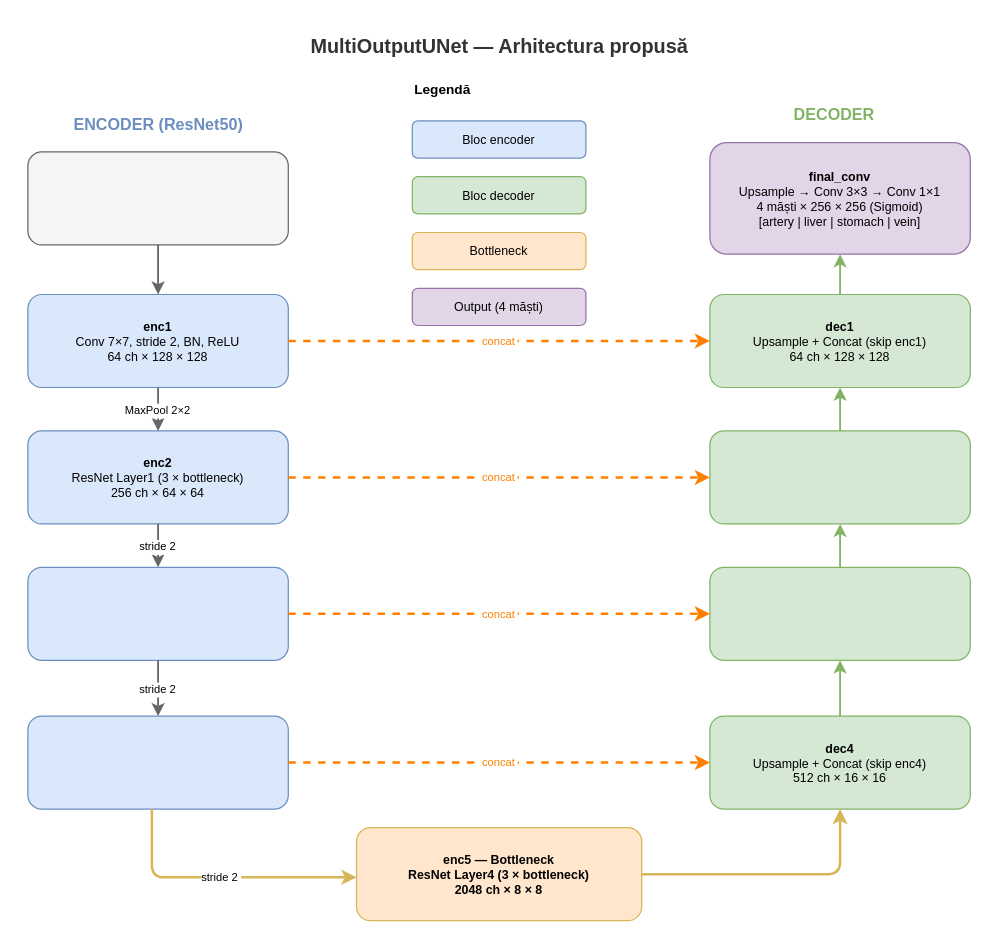
Some shapes in this 992 by 942 pixel diagram are drawn without their labels. The centre of each missing label's shape, as x and y in pixels:
"dec2 Upsample + Concat (skip enc2) 128 ch × 64 × 64" goes at [839,477].
"dec3 Upsample + Concat (skip enc3) 256 ch × 32 × 32" goes at [839,613].
"enc3 ResNet Layer2 (4 × bottleneck) 512 ch × 32 × 32" goes at [157,613].
"enc4 ResNet Layer3 (6 × bottleneck) 1024 ch × 16 × 16" goes at [157,762].
"Input 1 canal (grayscale) 256 × 256 px" goes at [157,198].
